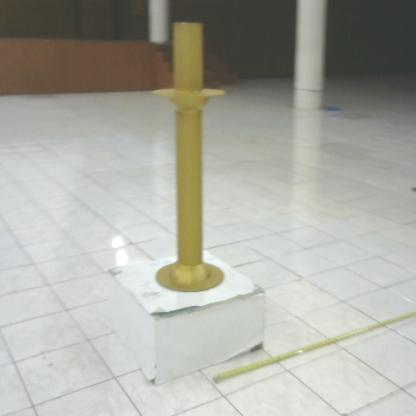pole: (141, 16, 230, 301)
